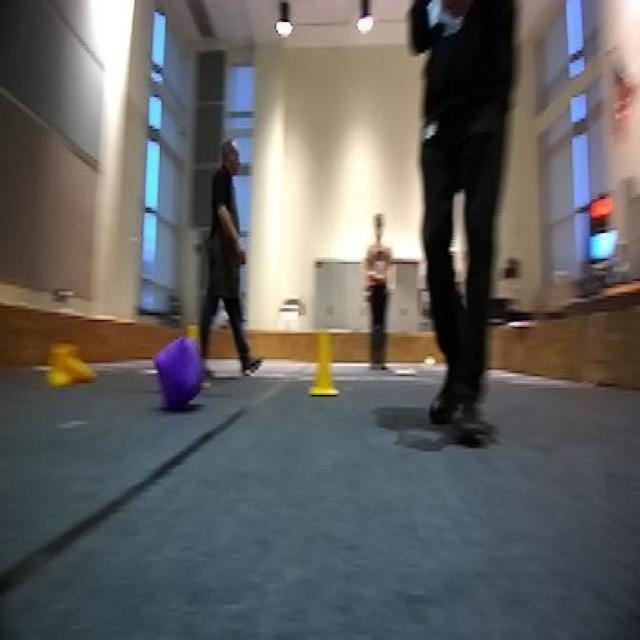frc_cone: (48, 341, 88, 388), (186, 329, 215, 393), (312, 328, 338, 396)
frc_cube: (152, 330, 201, 416)
